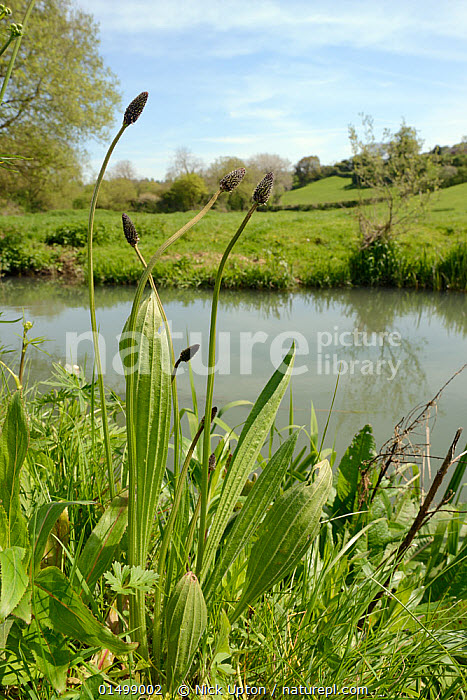buckhorn plantain: (60, 83, 330, 672)
